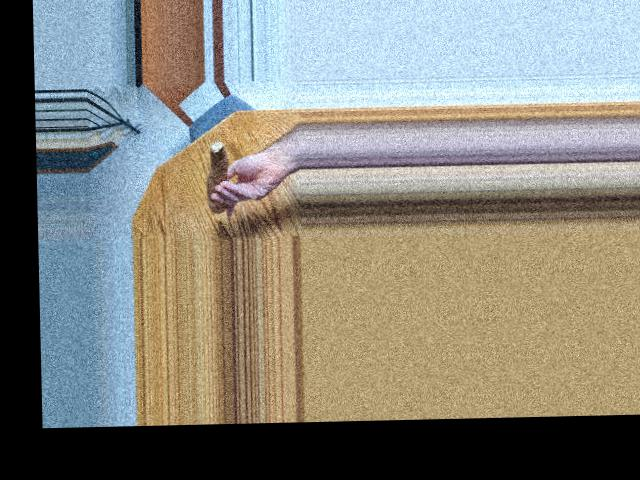sweet_potato: (198, 149, 227, 208)
